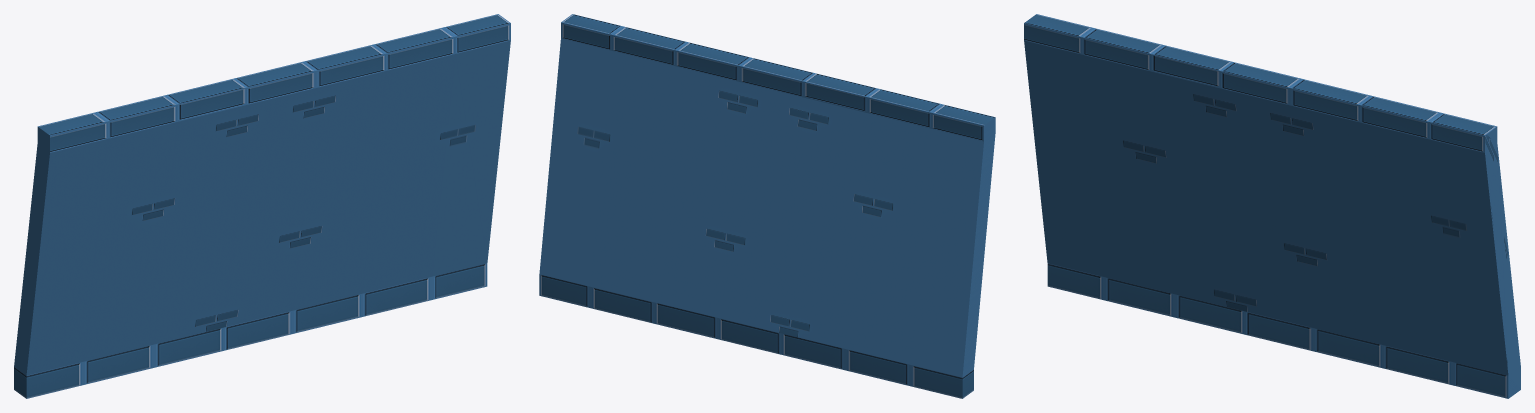
File: Stena_small_Naklon.fbx
3 views of the same model, side by side, from view 1: azimuth 30°, elevation 25°; view 2: azimuth 150°, elevation 25°; view 3: azimuth 330°, elevation 25° (orthographic). The views are drawn at different scales.
Parts seen in each view (by area): view 1: Stena_Small_Naklon; view 2: Stena_Small_Naklon; view 3: Stena_Small_Naklon.
Part boxes in pixels (box(x1,y1,x2,y2)): Stena_Small_Naklon: box(14, 14, 510, 398); Stena_Small_Naklon: box(539, 14, 995, 398); Stena_Small_Naklon: box(1024, 14, 1520, 398).
Size of the model in its own units: 2049 by 1192 by 277.
